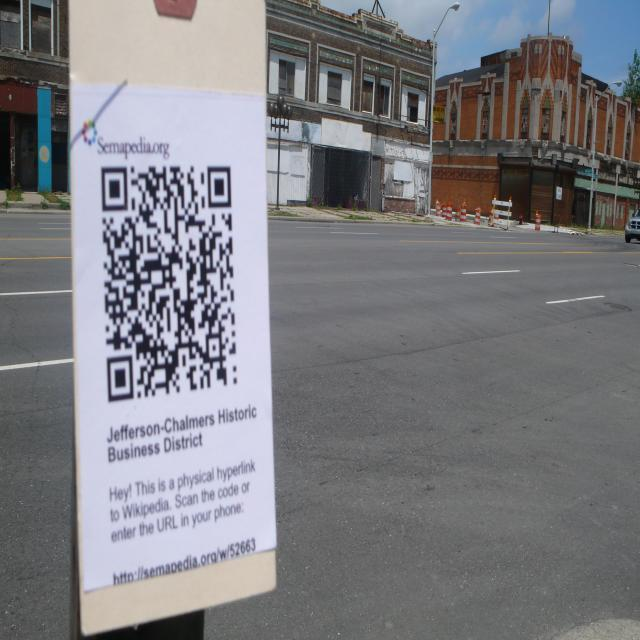qr-code: (102, 168, 237, 402)
